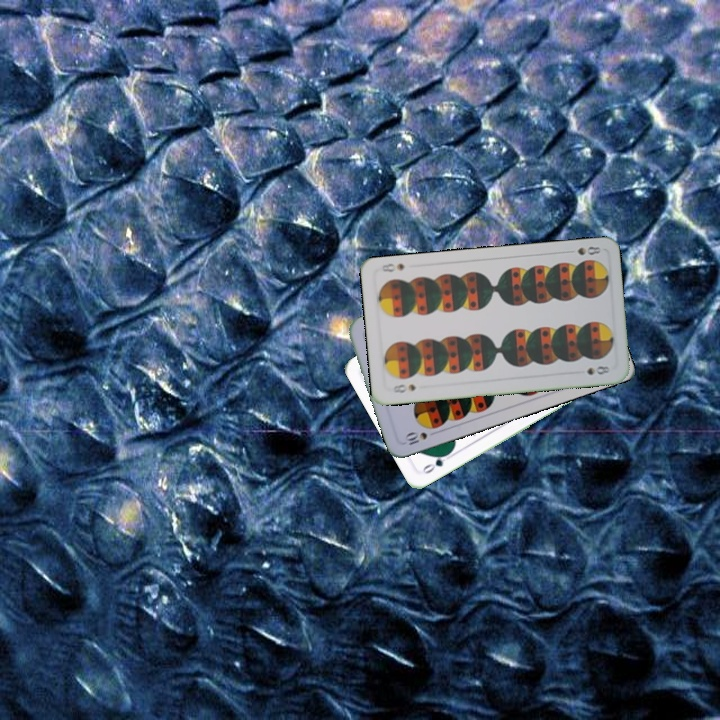GO: (418, 448, 454, 477)
S10: (400, 427, 440, 449)
S8: (563, 242, 603, 258), (389, 380, 419, 395)
